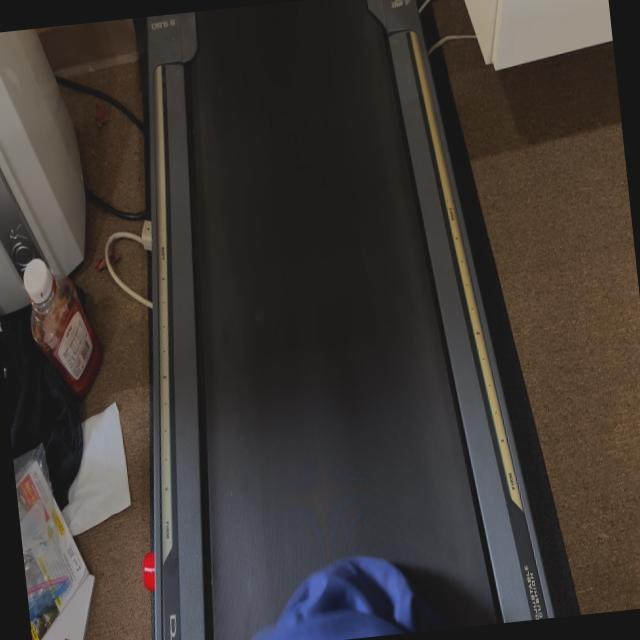Trash: (233, 547, 417, 640)
